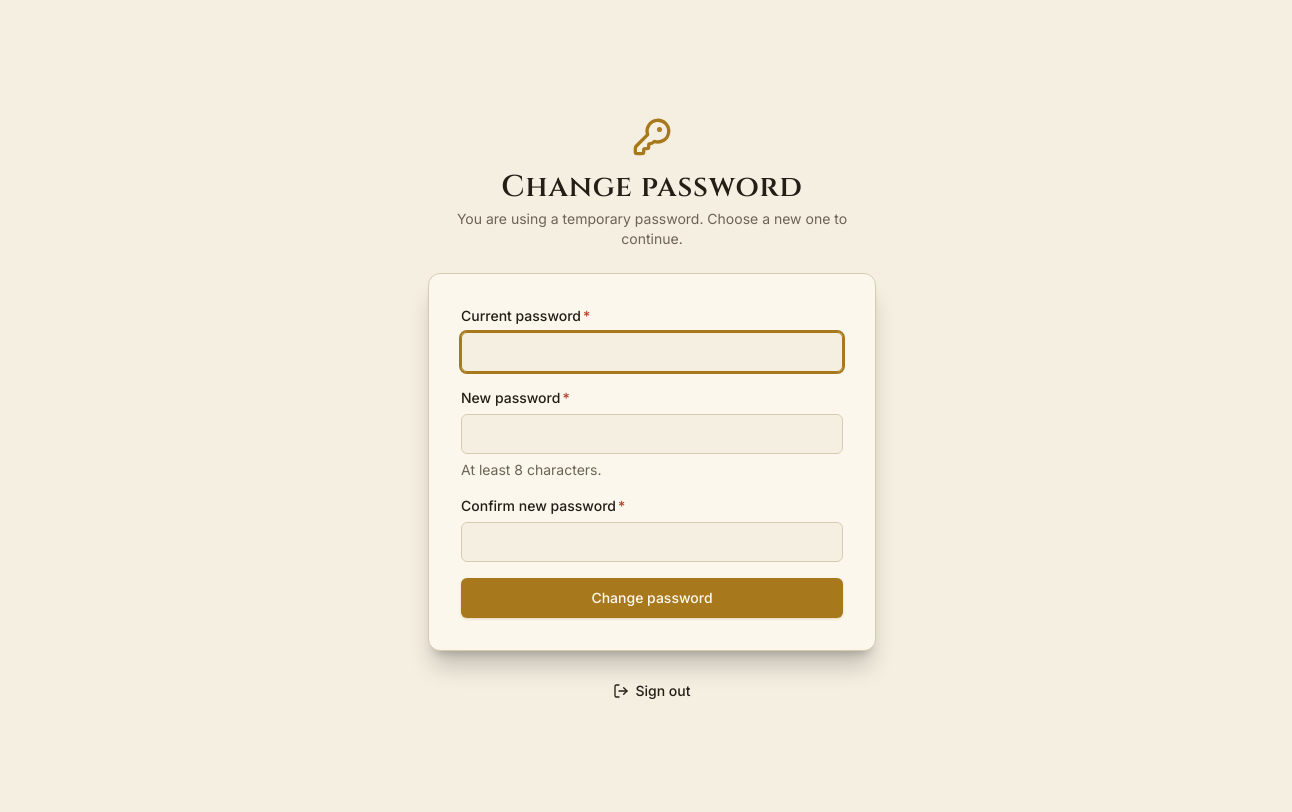
Test case: ChangePasswordPage › changes the password, clears the forced flag and moves on
Expected: the heading "Change password" is shown, [501,167,803,207]
Type "oldpassword" into the password field labelled "Current password*" at (652, 352), box [461,332,843,372]
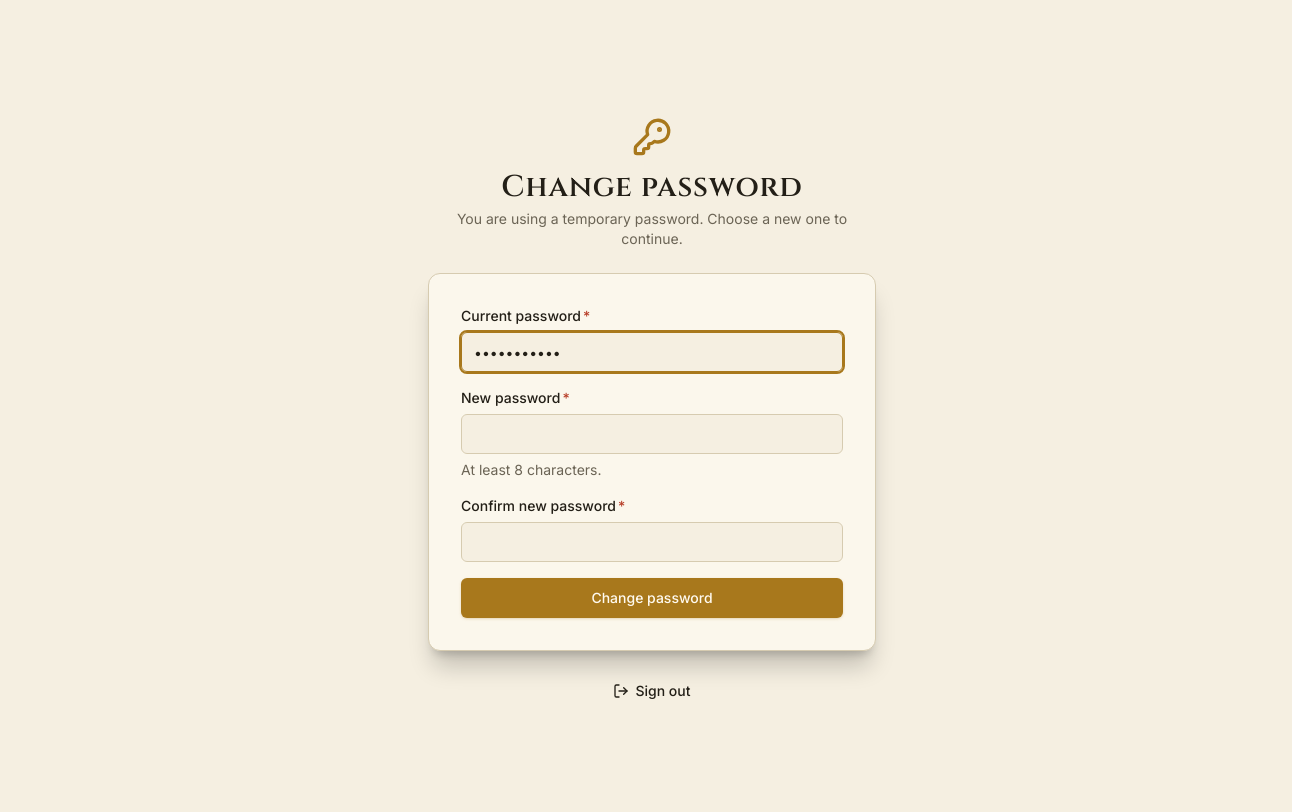
Type "newpassword1" into the password field labelled "New password*" at (652, 434), box [461,414,843,454]
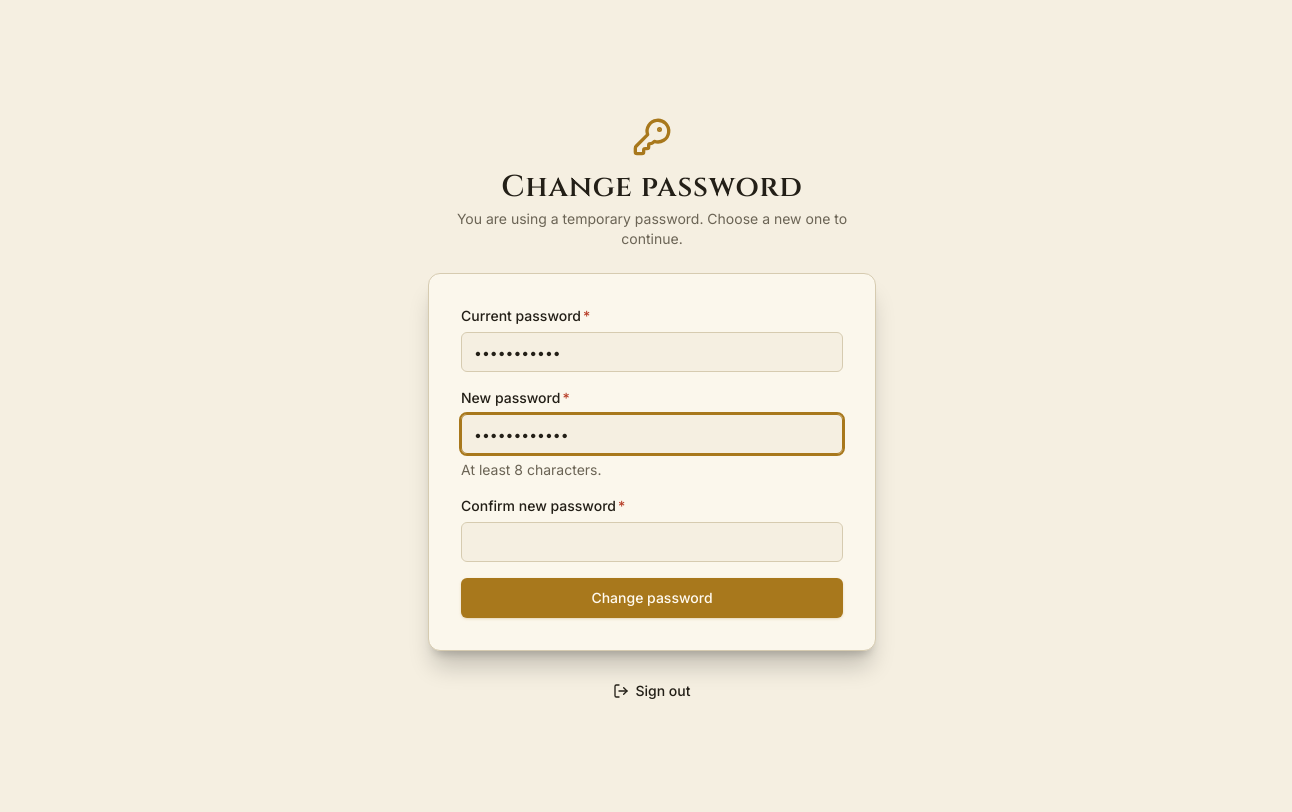
Type "newpassword1" into the password field labelled "Confirm new password*" at (652, 542), box [461,522,843,562]
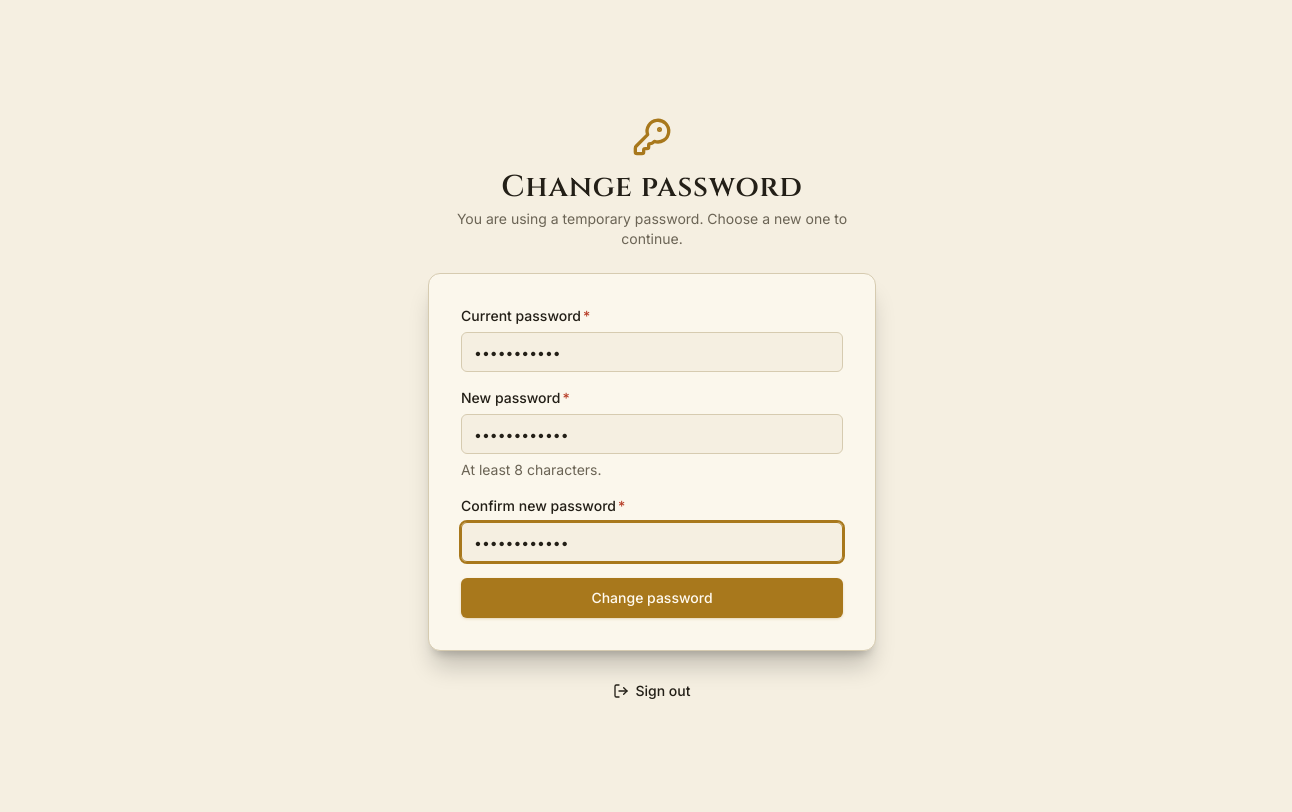
Click the button "Change password" at (652, 598), box [461,578,843,618]
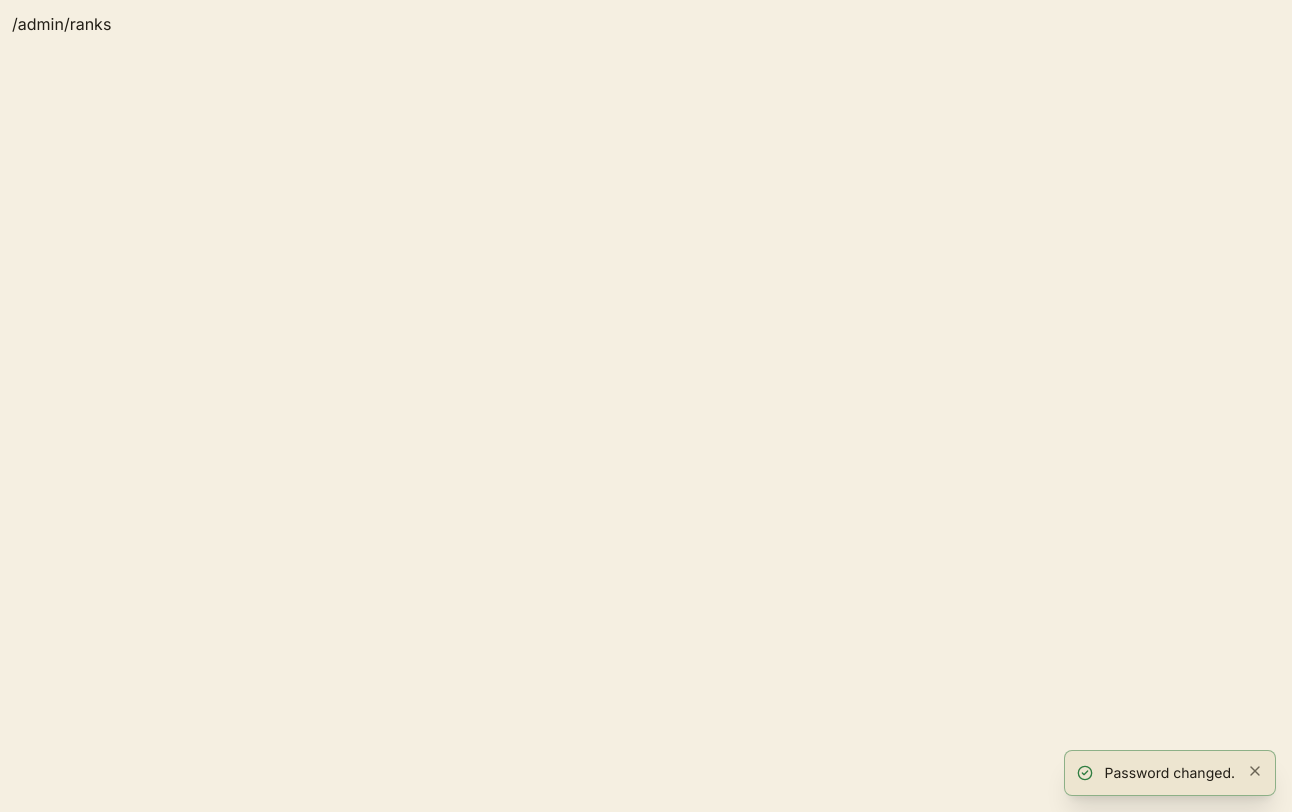
Now the text "/admin/ranks" is shown, box [12,14,111,34]
